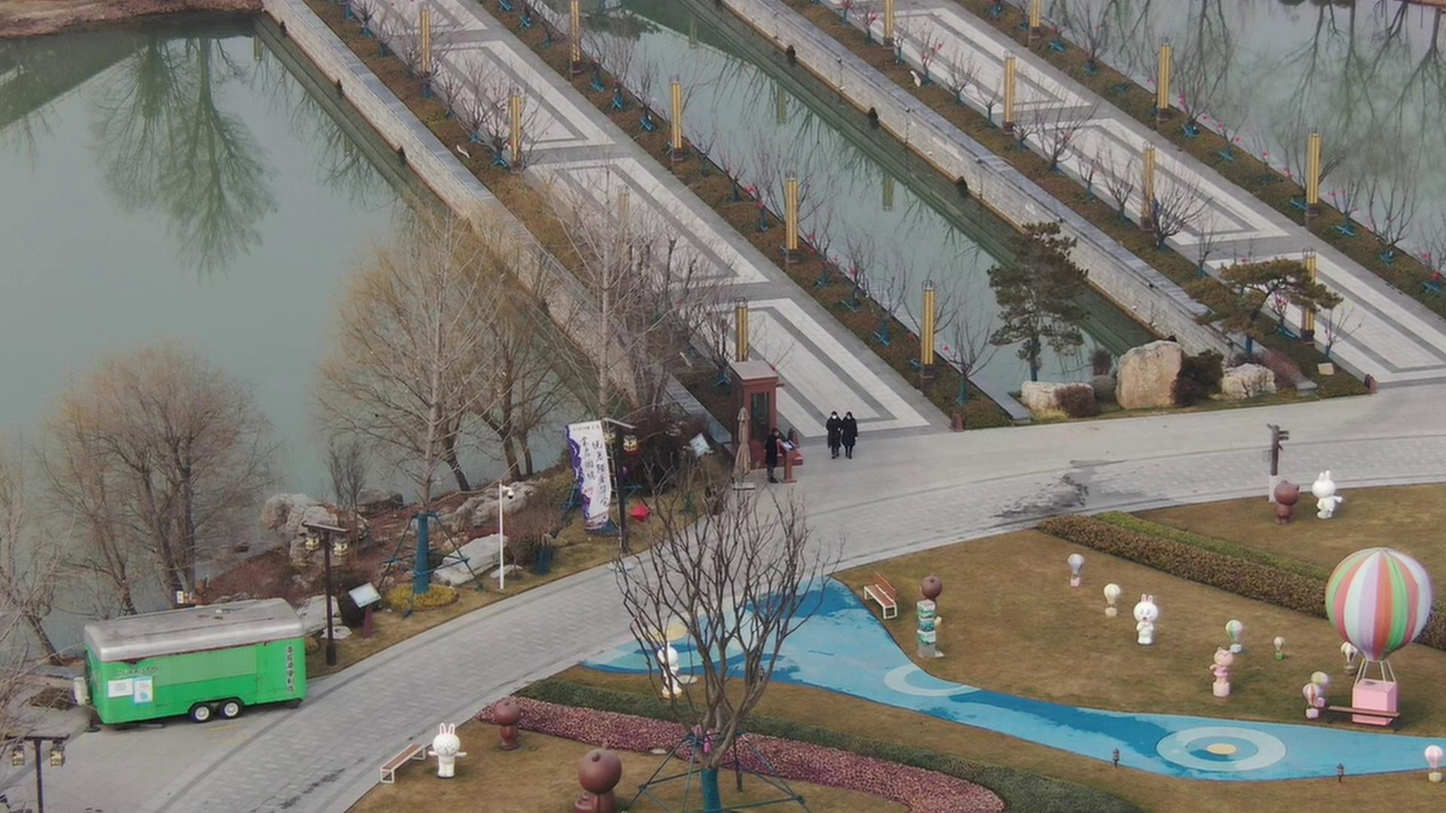class_2: (821, 408, 859, 463)
human: (753, 431, 779, 489)
